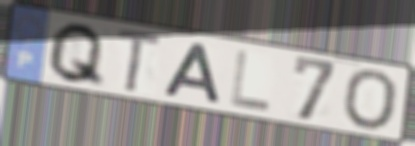7: (292, 53, 338, 125)
A: (160, 40, 223, 107)
L: (228, 48, 274, 114)
O: (340, 68, 400, 132)
Q: (44, 21, 108, 91)
T: (114, 25, 165, 95)
